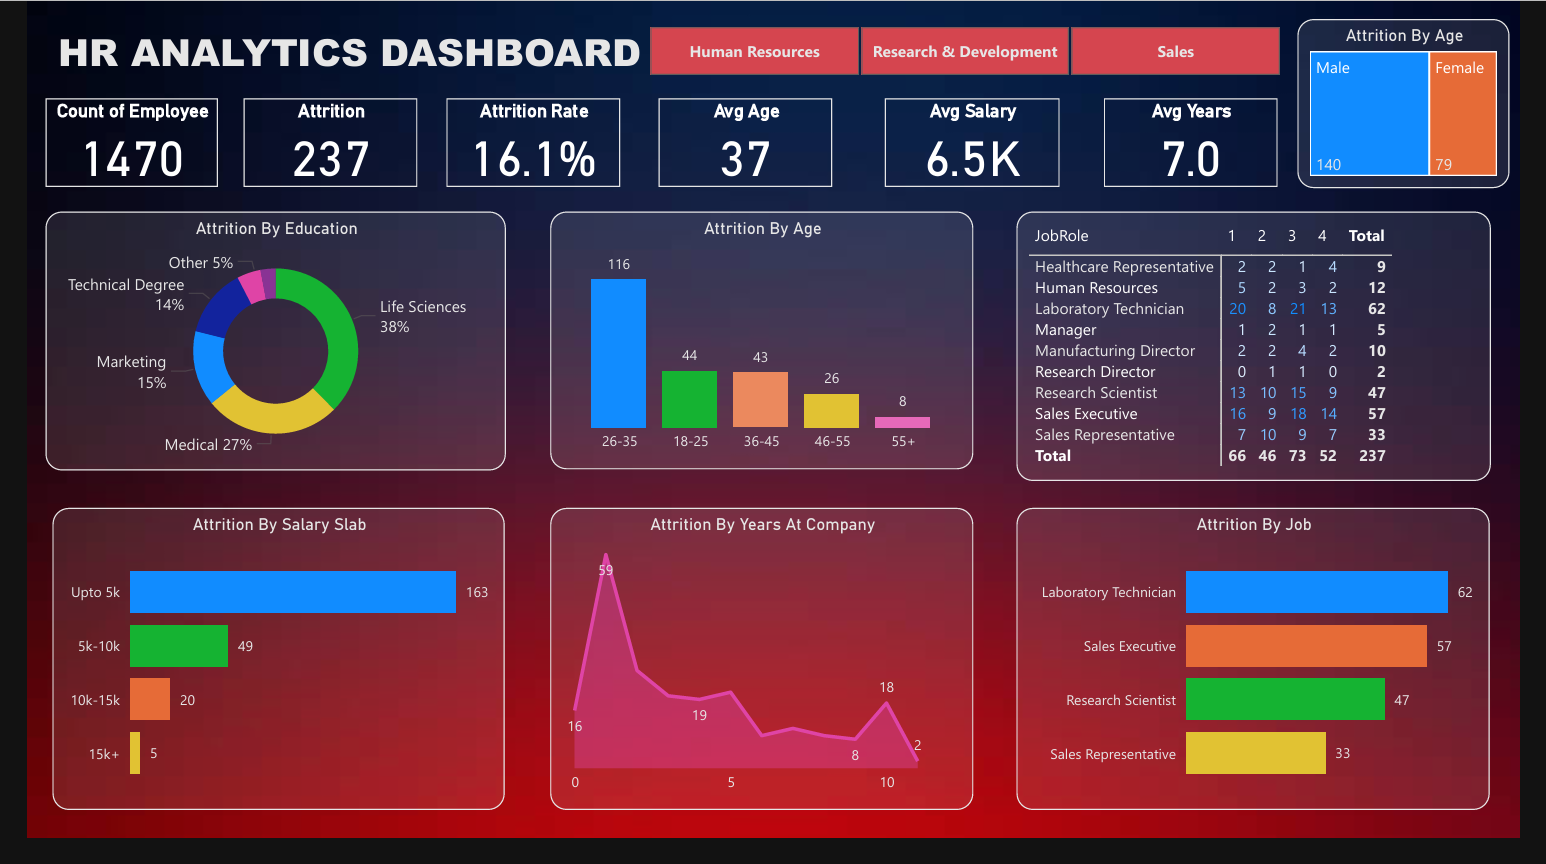

The dashboard page shown, as its layout file describes it:
{"tool":"powerbi","page":{"name":"Page 1","canvas":[1280,720],"ordinal":0},"visuals":[{"type":"card","title":"Count of Employee","fields":{"Values":["CountNonNull(HR_Analytics.EmpID)"]},"box":[15.1,86.3,147.9,75.3],"z":0},{"type":"card","title":"Attrition","fields":{"Values":["Sum(HR_Analytics.AttritionCount)"]},"box":[184.9,86.3,149.3,75.3],"z":1000},{"type":"card","title":"Attrition Rate","fields":{"Values":["HR_Analytics.AttritionRate"]},"box":[358.8,86.3,149.3,75.3],"z":2000},{"type":"card","title":"Avg Age","fields":{"Values":["Avg(HR_Analytics.Age)"]},"box":[540.9,86.3,149.3,75.3],"z":3000},{"type":"card","title":"Avg Salary","fields":{"Values":["Avg(HR_Analytics.MonthlyIncome)"]},"box":[735.3,86.3,149.3,75.3],"z":4000},{"type":"card","title":"Avg Years","fields":{"Values":["Avg(HR_Analytics.YearsAtCompany)"]},"box":[922.7,86.2,149.6,75.5],"z":5000},{"type":"donutChart","title":"Attrition By Education","fields":{"Category":["HR_Analytics.EducationField"],"Y":["Sum(HR_Analytics.AttritionCount)"]},"box":[15,183,395,222],"z":6000},{"type":"columnChart","title":"Attrition By Age","fields":{"Category":["HR_Analytics.AgeGroup"],"Y":["Sum(HR_Analytics.AttritionCount)"]},"box":[447.8,183.5,362.9,220.5],"z":7000},{"type":"pivotTable","fields":{"Rows":["HR_Analytics.JobRole"],"Columns":["HR_Analytics.JobSatisfaction"],"Values":["Sum(HR_Analytics.AttritionCount)"]},"box":[848,183,407,231],"z":8000},{"type":"barChart","title":"Attrition By Salary Slab","fields":{"Category":["HR_Analytics.SalarySlab"],"Y":["Sum(HR_Analytics.AttritionCount)"]},"box":[20.5,436.8,388.9,258.8],"z":9000},{"type":"barChart","title":"Attrition By Job ","fields":{"Category":["HR_Analytics.JobRole"],"Y":["Sum(HR_Analytics.AttritionCount)"]},"box":[847.6,436.8,406.7,258.8],"z":10000},{"type":"areaChart","title":"Attrition By Years At Company","fields":{"Category":["HR_Analytics.YearsAtCompany"],"Y":["Sum(HR_Analytics.AttritionCount)"]},"box":[447.8,436.8,362.9,258.8],"z":11000},{"type":"treemap","title":"Attrition By Age","fields":{"Group":["HR_Analytics.Gender"],"Values":["Sum(HR_Analytics.AttritionCount)"]},"box":[1088.6,17.8,182.1,145.1],"z":12000},{"type":"slicer","fields":{"Values":["HR_Analytics.Department"]},"box":[508,17.8,590.2,54.8],"z":13000},{"type":"textbox","box":[20.5,17.8,520.3,54.8],"z":14000}]}

Visuals, with their boxes in screenshot pixels (x1, y1, x2, y2), scaled from the page's 1280x720 canvas onto the 1546x864 screenshot:
"Count of Employee" card: (18,104,197,194)
"Attrition" card: (223,104,404,194)
"Attrition Rate" card: (433,104,614,194)
"Avg Age" card: (653,104,834,194)
"Avg Salary" card: (888,104,1068,194)
"Avg Years" card: (1114,103,1295,194)
"Attrition By Education" donutChart: (18,220,495,486)
"Attrition By Age" columnChart: (541,220,979,485)
pivotTable - HR_Analytics.JobRole x HR_Analytics.JobSatisfaction: (1024,220,1516,497)
"Attrition By Salary Slab" barChart: (25,524,494,835)
"Attrition By Job " barChart: (1024,524,1515,835)
"Attrition By Years At Company" areaChart: (541,524,979,835)
"Attrition By Age" treemap: (1315,21,1535,195)
slicer - HR_Analytics.Department: (614,21,1326,87)
textbox: (25,21,653,87)
